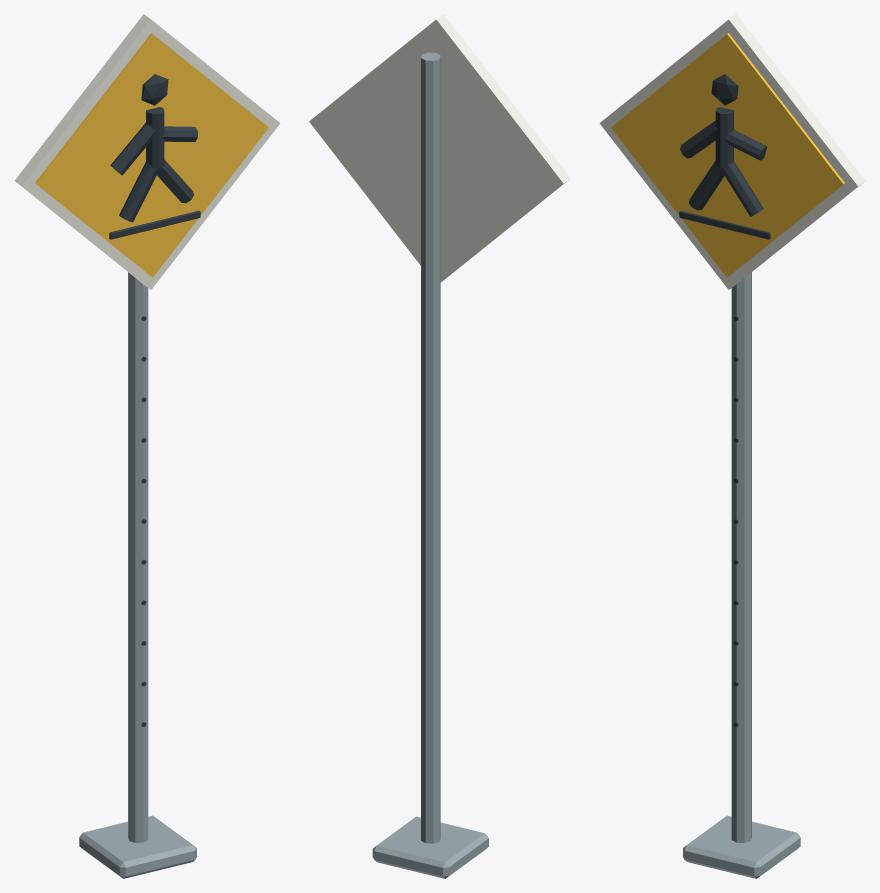
File: Sign_Pedestrian_Crossing.glb
3 views of the same model, side by side, from view 1: azimuth 30°, elevation 25°; view 2: azimuth 150°, elevation 25°; view 3: azimuth 330°, elevation 25° (orthographic).
Visible parts, largest first — view 1: Sign_Pedestrian_Crossing; view 2: Sign_Pedestrian_Crossing; view 3: Sign_Pedestrian_Crossing.
Part boxes in pixels (x1,y1,x2,y2): Sign_Pedestrian_Crossing: (14, 14, 280, 878); Sign_Pedestrian_Crossing: (309, 14, 570, 878); Sign_Pedestrian_Crossing: (599, 14, 865, 878).
Bounding box in the file's own units: 0.8 × 2.5 × 0.24.
